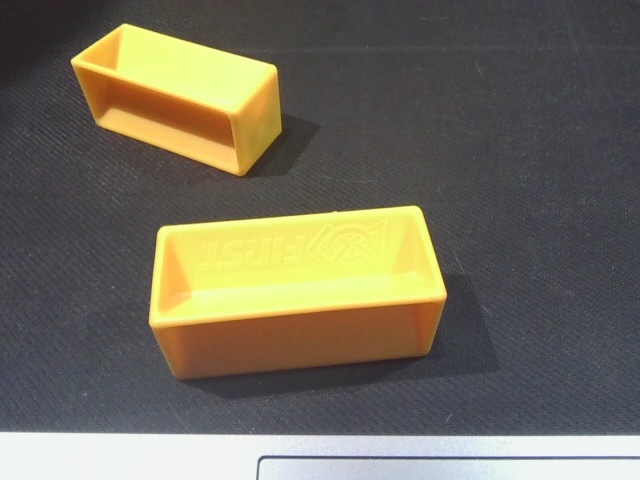YellowSample: (145, 201, 449, 380), (66, 21, 287, 179)
